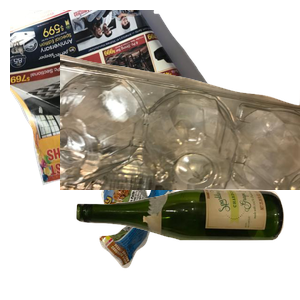glass: (74, 186, 300, 300)
paper: (10, 10, 241, 188)
plastic: (60, 52, 300, 232)
trash: (97, 151, 283, 300)
